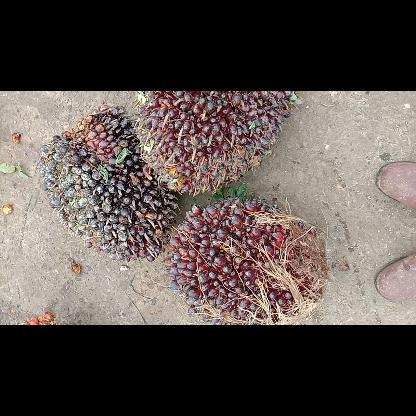Kurang masak: (164, 198, 326, 324), (139, 91, 291, 191)
TBS mentah: (41, 107, 180, 263)
